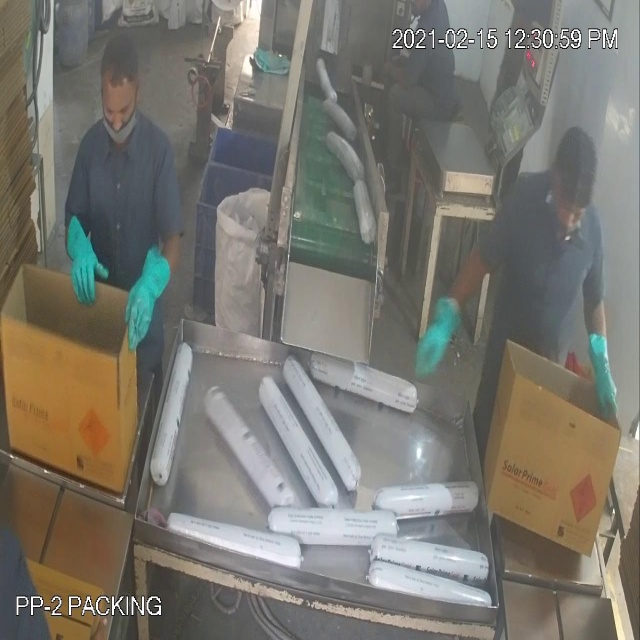Guantes: (396, 286, 473, 402), (125, 231, 185, 363), (55, 195, 112, 323), (578, 302, 630, 424)
